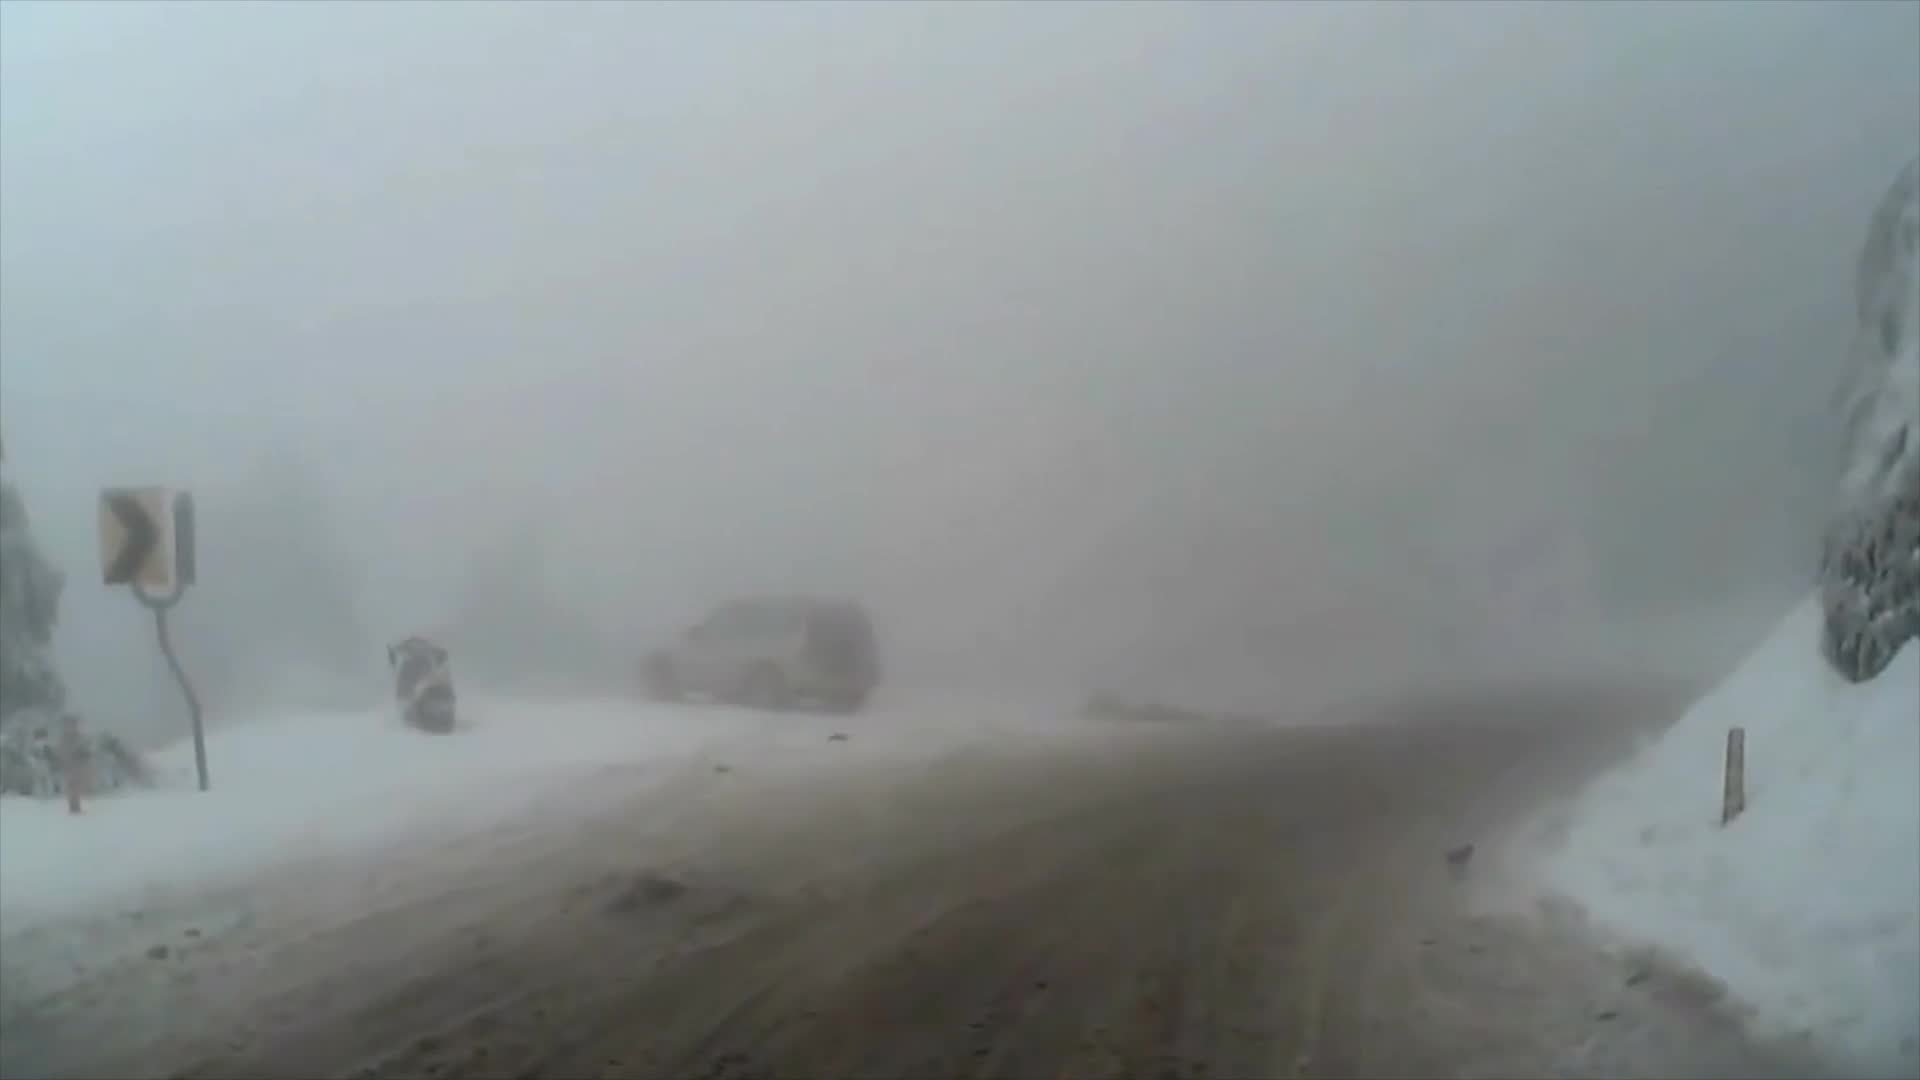vehicle: (637, 596, 877, 716)
